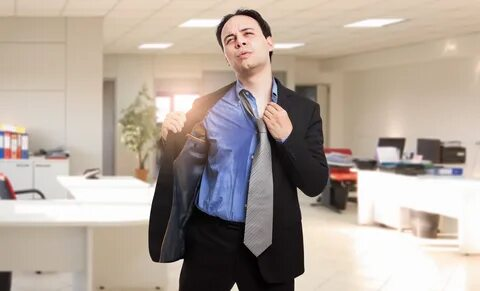awake: (156, 7, 330, 291)
